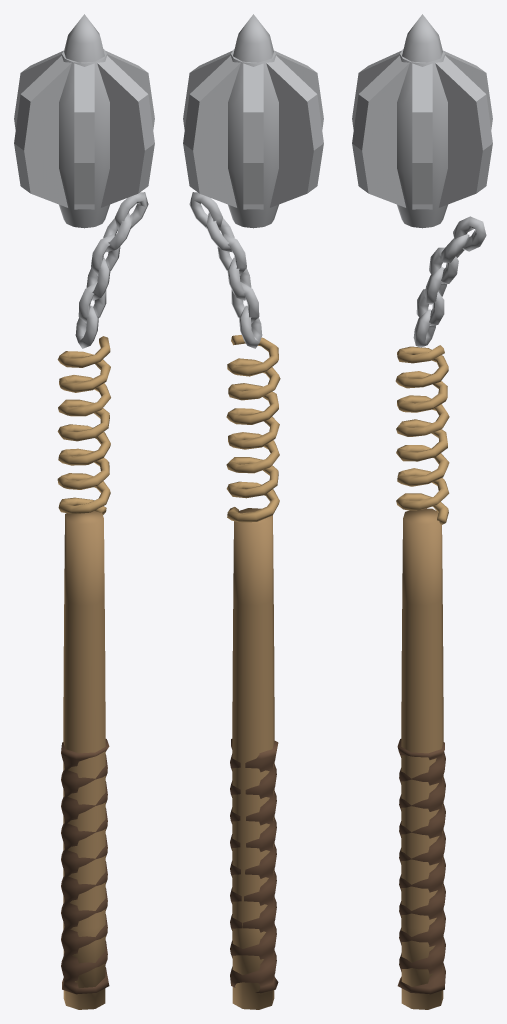
File: gnome-flick-mace.glb
3 views of the same model, side by side, from view 1: azimuth 30°, elevation 25°; view 2: azimuth 150°, elevation 25°; view 3: azimuth 330°, elevation 25° (orthographic).
Visible parts, largest first — view 1: gnome-flick-mace; view 2: gnome-flick-mace; view 3: gnome-flick-mace.
Boxes of the visible parts, x1,y1,x2,y2 form: gnome-flick-mace: [14, 14, 154, 1009]; gnome-flick-mace: [183, 14, 323, 1009]; gnome-flick-mace: [352, 14, 492, 1009].
Size of the model in its own units: 0.24 by 1.73 by 0.2238.
